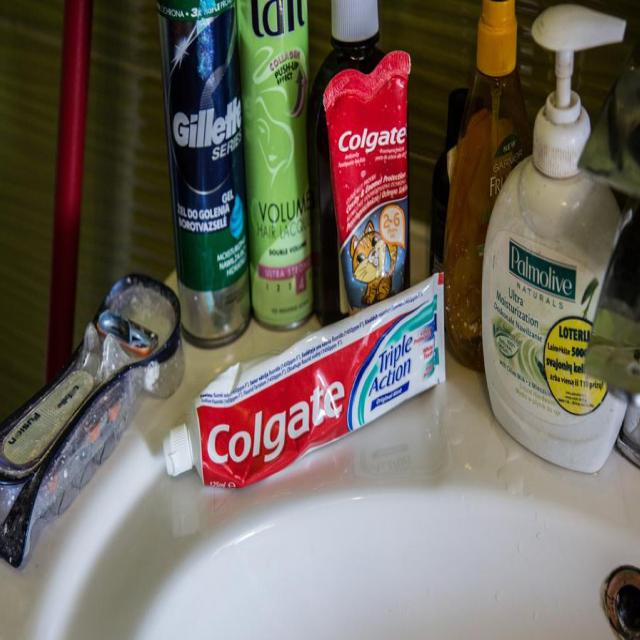Toothpaste: (156, 266, 458, 494), (316, 40, 428, 309)
